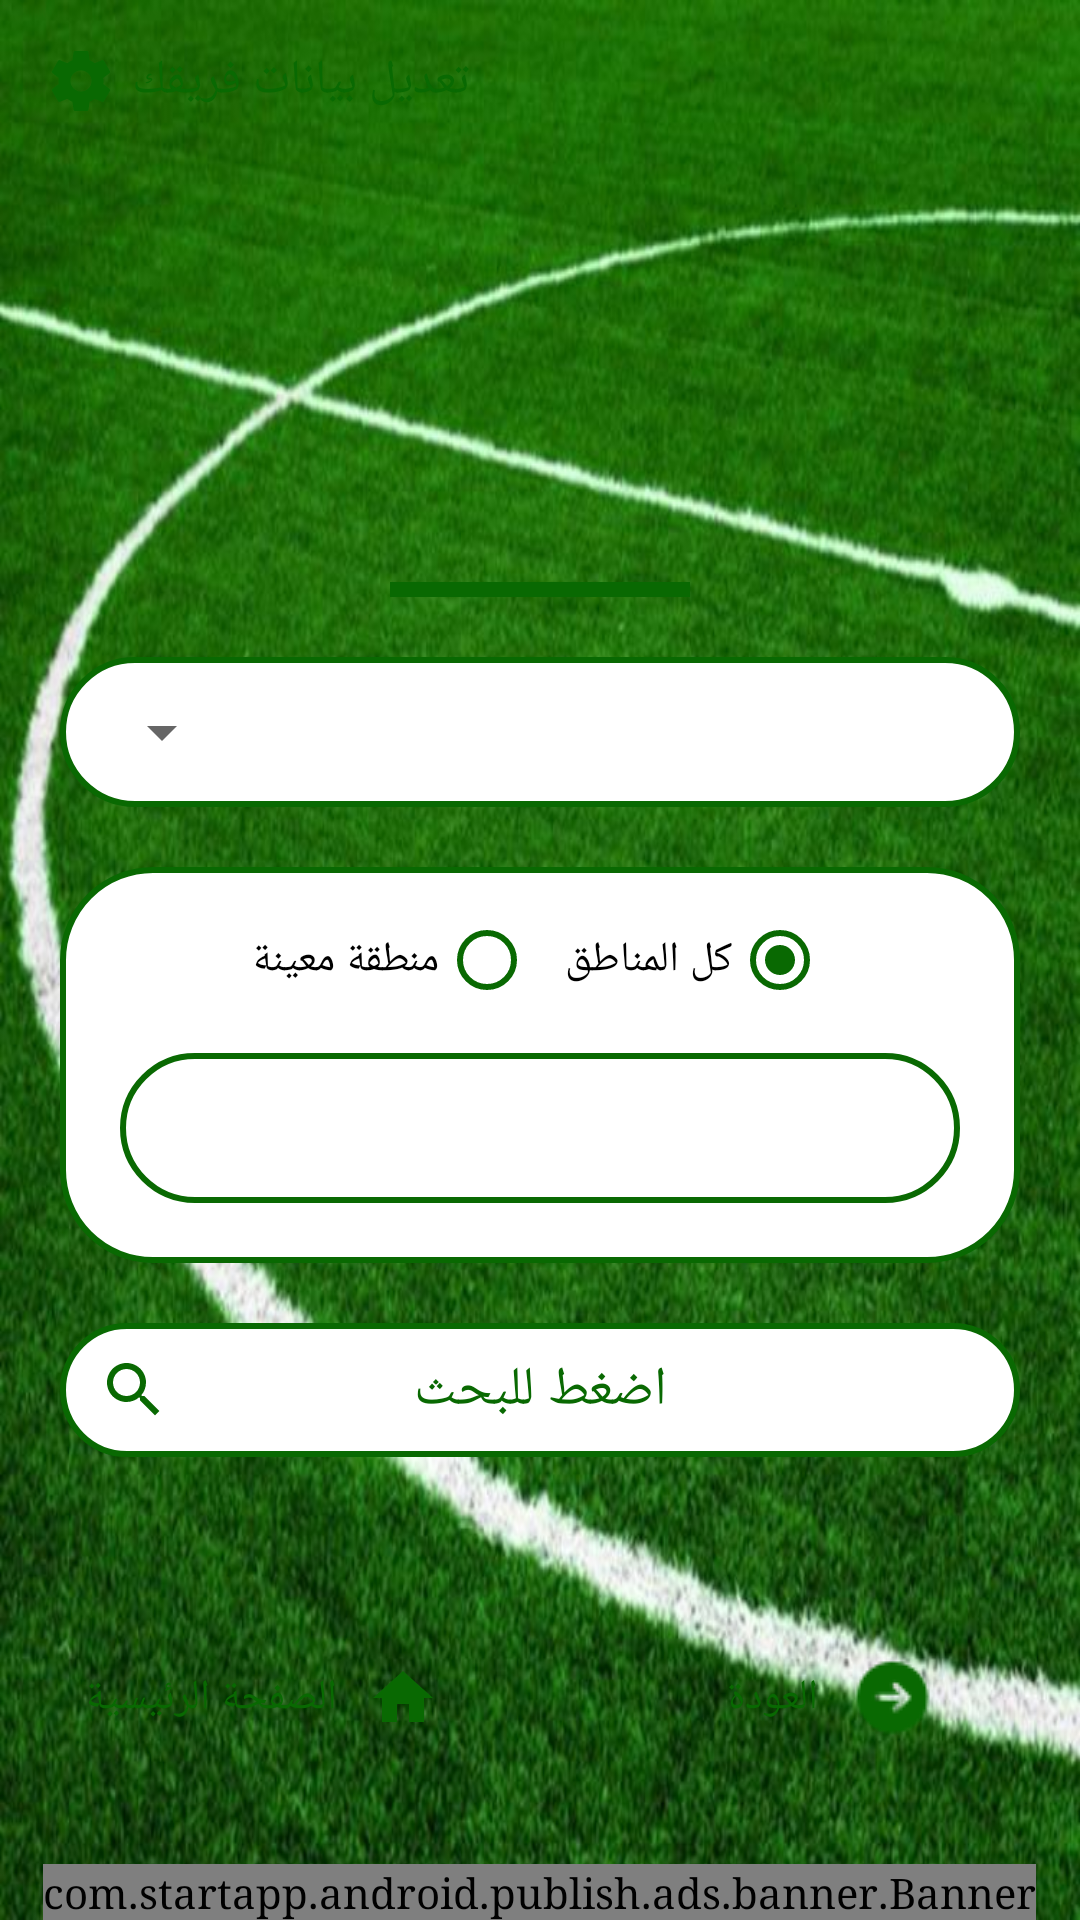

Point at icon controls on the screen. Image size 1080 x 1920, points as [x,y].
home: [403,1698]
search: [133,1389]
